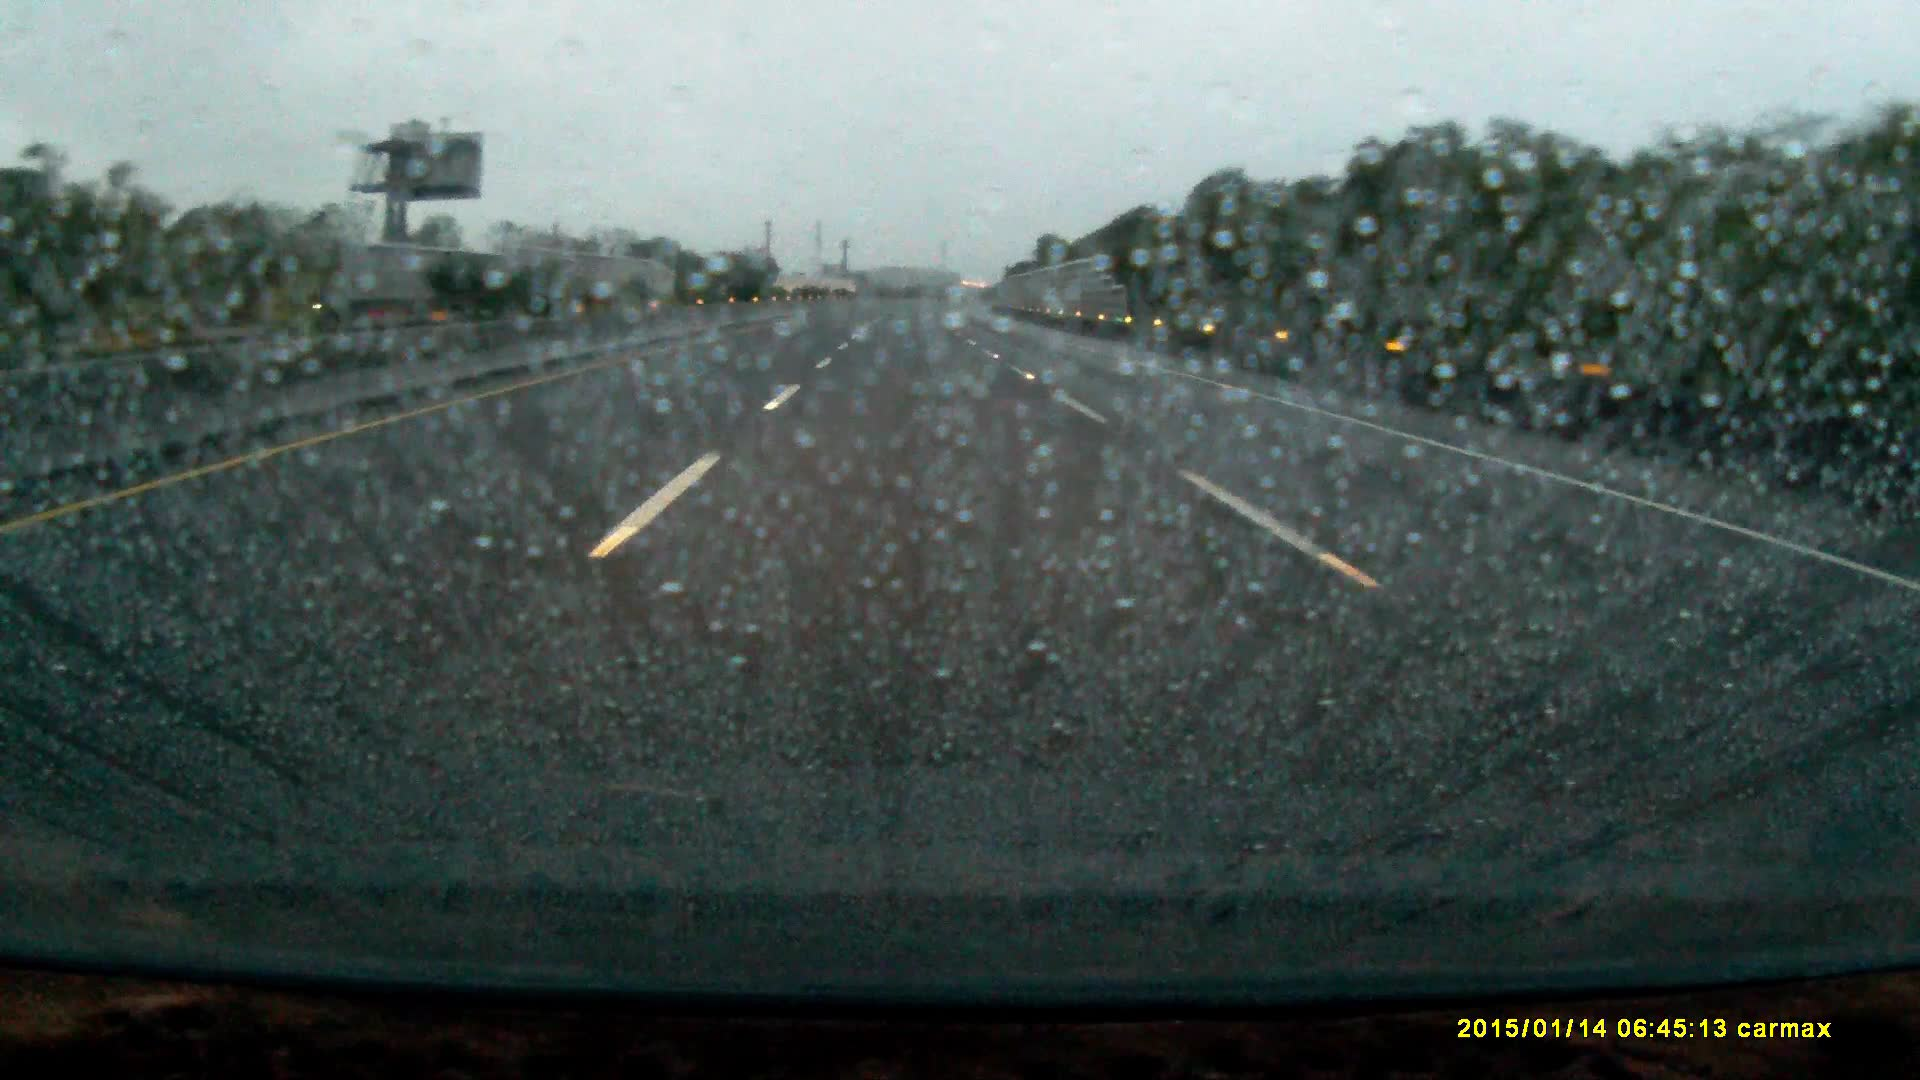vehicle: (237, 278, 381, 324)
